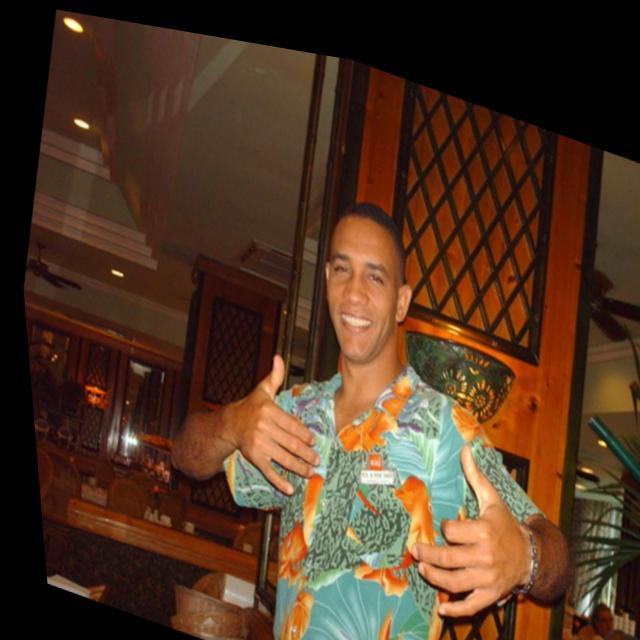Nonhelmet: (317, 199, 416, 365)
